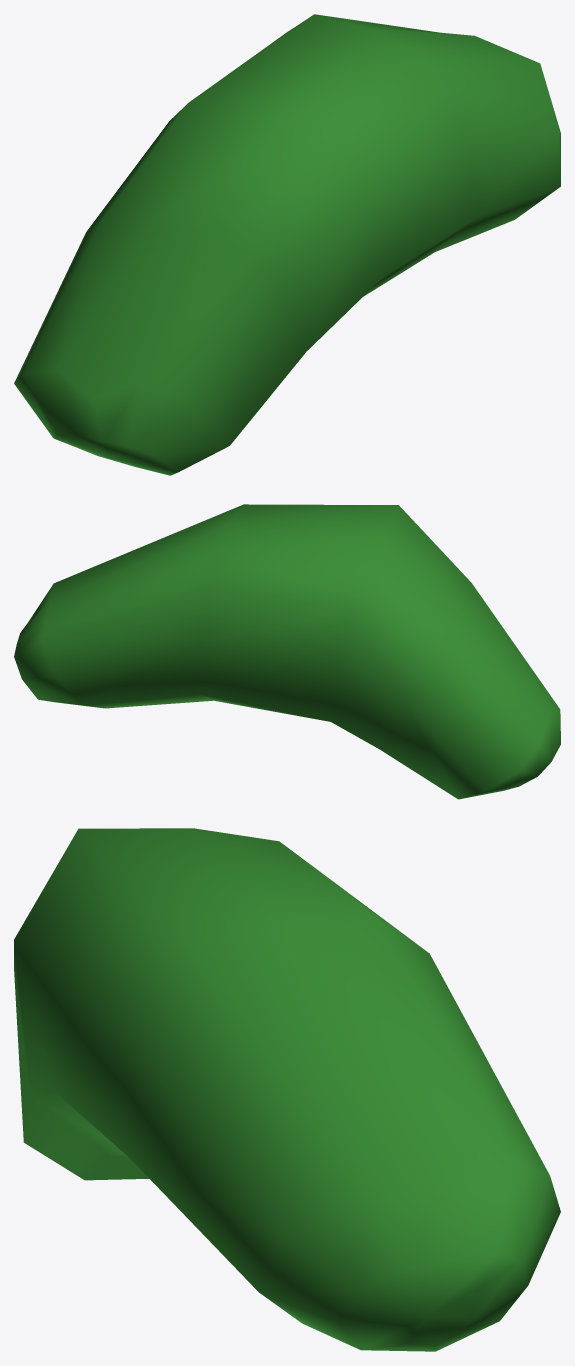
The model's file is BretarisParticle.fbx.
3 renders of one model, top to bottom at view 1: azimuth 30°, elevation 25°; view 2: azimuth 150°, elevation 25°; view 3: azimuth 270°, elevation 25°, orthographic. The views are drawn at different scales.
Parts seen in each view (by area): view 1: BRETARIS_03:ParticellaIstan1_Mesh1; view 2: BRETARIS_03:ParticellaIstan1_Mesh1; view 3: BRETARIS_03:ParticellaIstan1_Mesh1.
Part boxes in pixels (box(x1,y1,x2,y2)): BRETARIS_03:ParticellaIstan1_Mesh1: box(14, 14, 560, 475); BRETARIS_03:ParticellaIstan1_Mesh1: box(14, 504, 560, 799); BRETARIS_03:ParticellaIstan1_Mesh1: box(14, 828, 560, 1351).
Bounding box in the file's own units: 2.8 × 1.42 × 1.68.
